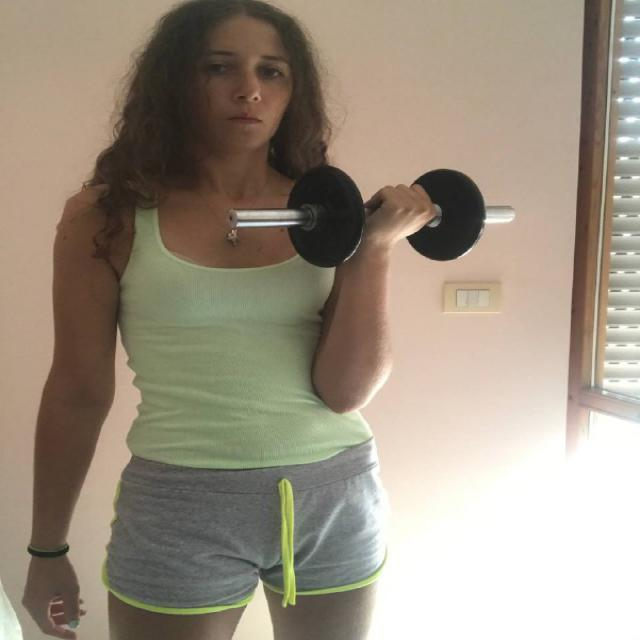Gym Weights: (217, 158, 524, 278)
